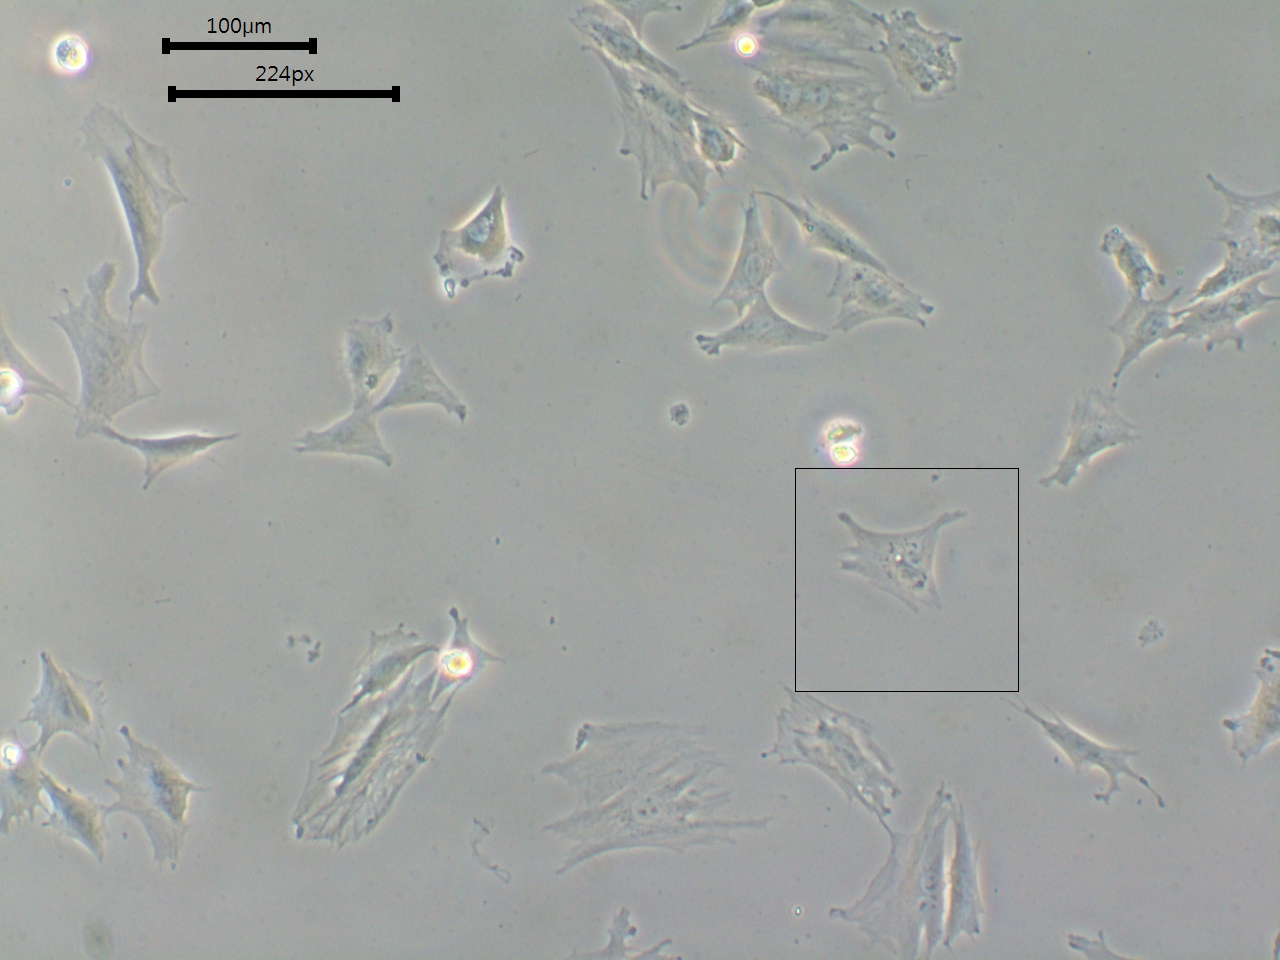dividing: (824, 506, 976, 618), (882, 12, 967, 105)
large-spread: (529, 707, 758, 871)
medium-polygonal: (78, 95, 198, 308), (1011, 701, 1170, 818)
medium-spread: (290, 683, 447, 849), (772, 693, 898, 821), (109, 733, 204, 876), (31, 652, 109, 751)
small-polygonal: (1042, 387, 1144, 504), (120, 425, 236, 499), (717, 197, 780, 311), (302, 404, 390, 473), (43, 781, 106, 862)
small-spread: (421, 178, 531, 324), (1105, 290, 1183, 381), (341, 314, 400, 405)
